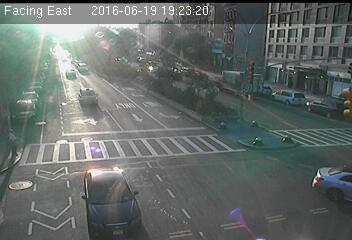neg: (106, 95, 126, 122)
